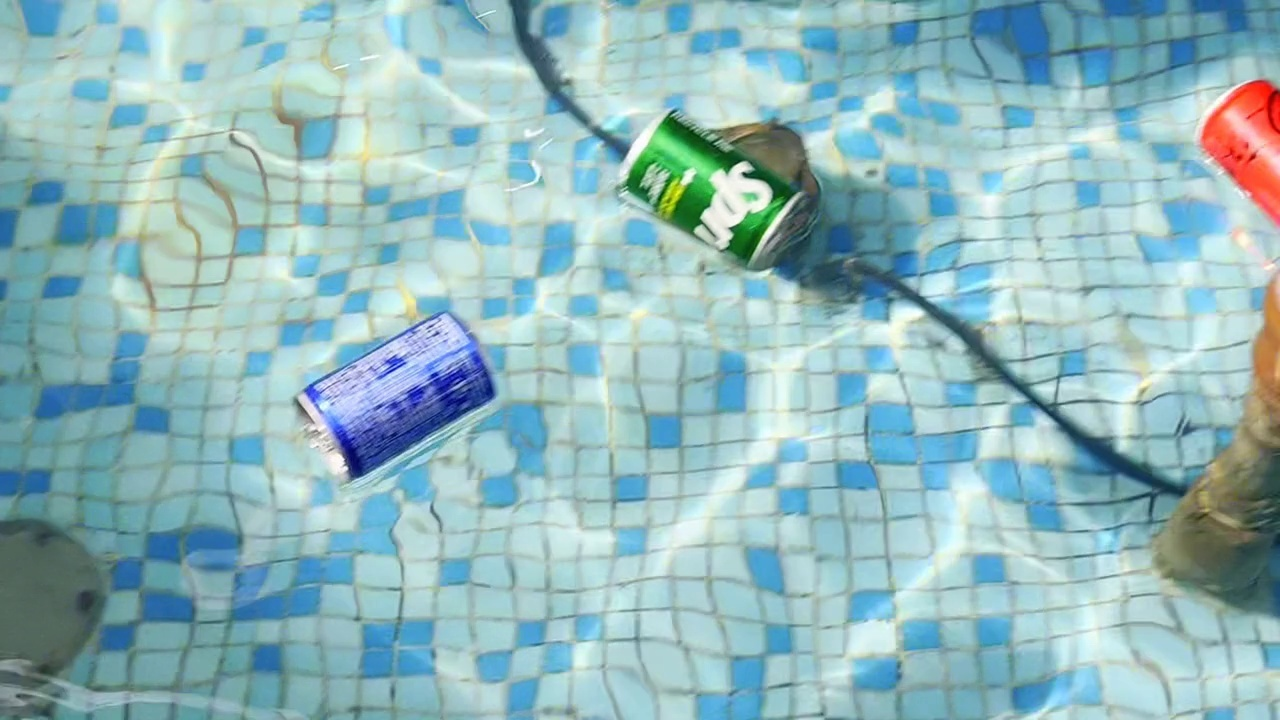debris: (601, 92, 816, 281), (287, 309, 507, 483), (1191, 52, 1280, 232)
